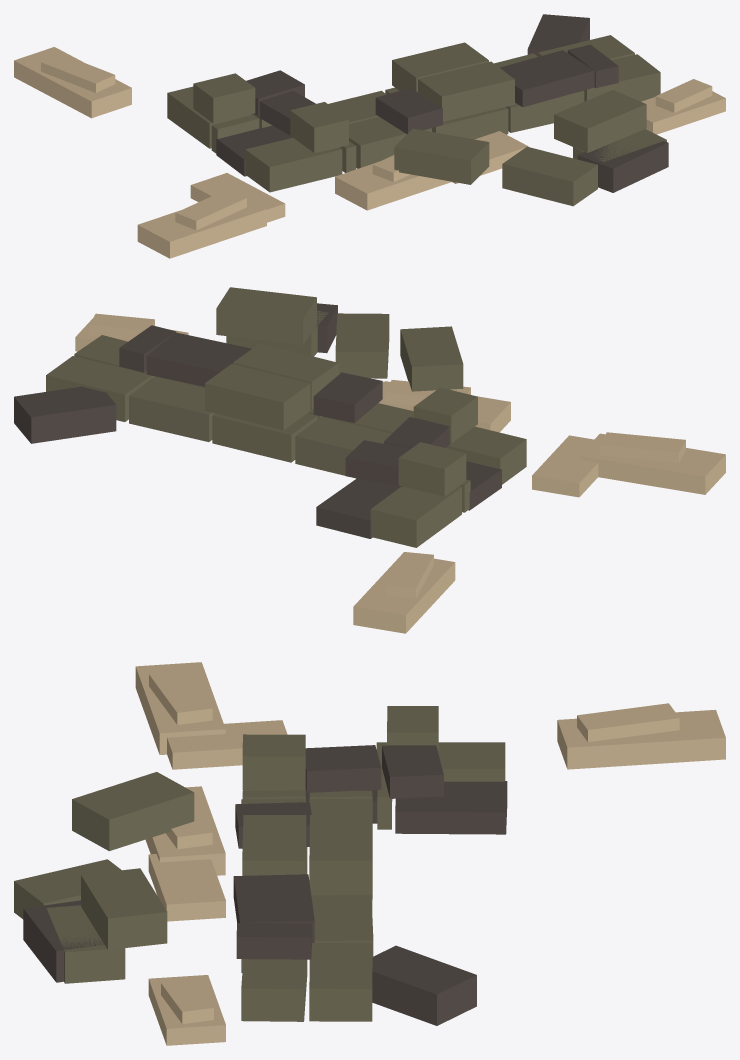
The model's file is SM_SacosRemate_v1_Talud_e2_MuyDanado_LOD0.fbx.
The picture shows the model from 3 angles, top to bottom: view 1: azimuth 30°, elevation 25°; view 2: azimuth 150°, elevation 25°; view 3: azimuth 270°, elevation 25°; orthographic projection. The views are drawn at different scales.
Visible parts, largest first — view 1: SM_sacos_piezas_v26_LOD0; view 2: SM_sacos_piezas_v26_LOD0; view 3: SM_sacos_piezas_v26_LOD0.
Part boxes in pixels (x1,y1,x2,y2): SM_sacos_piezas_v26_LOD0: (14,14,725,258); SM_sacos_piezas_v26_LOD0: (14,287,725,633); SM_sacos_piezas_v26_LOD0: (14,662,725,1045).
Bounding box in the file's own units: 6.41 × 0.585 × 5.33.
